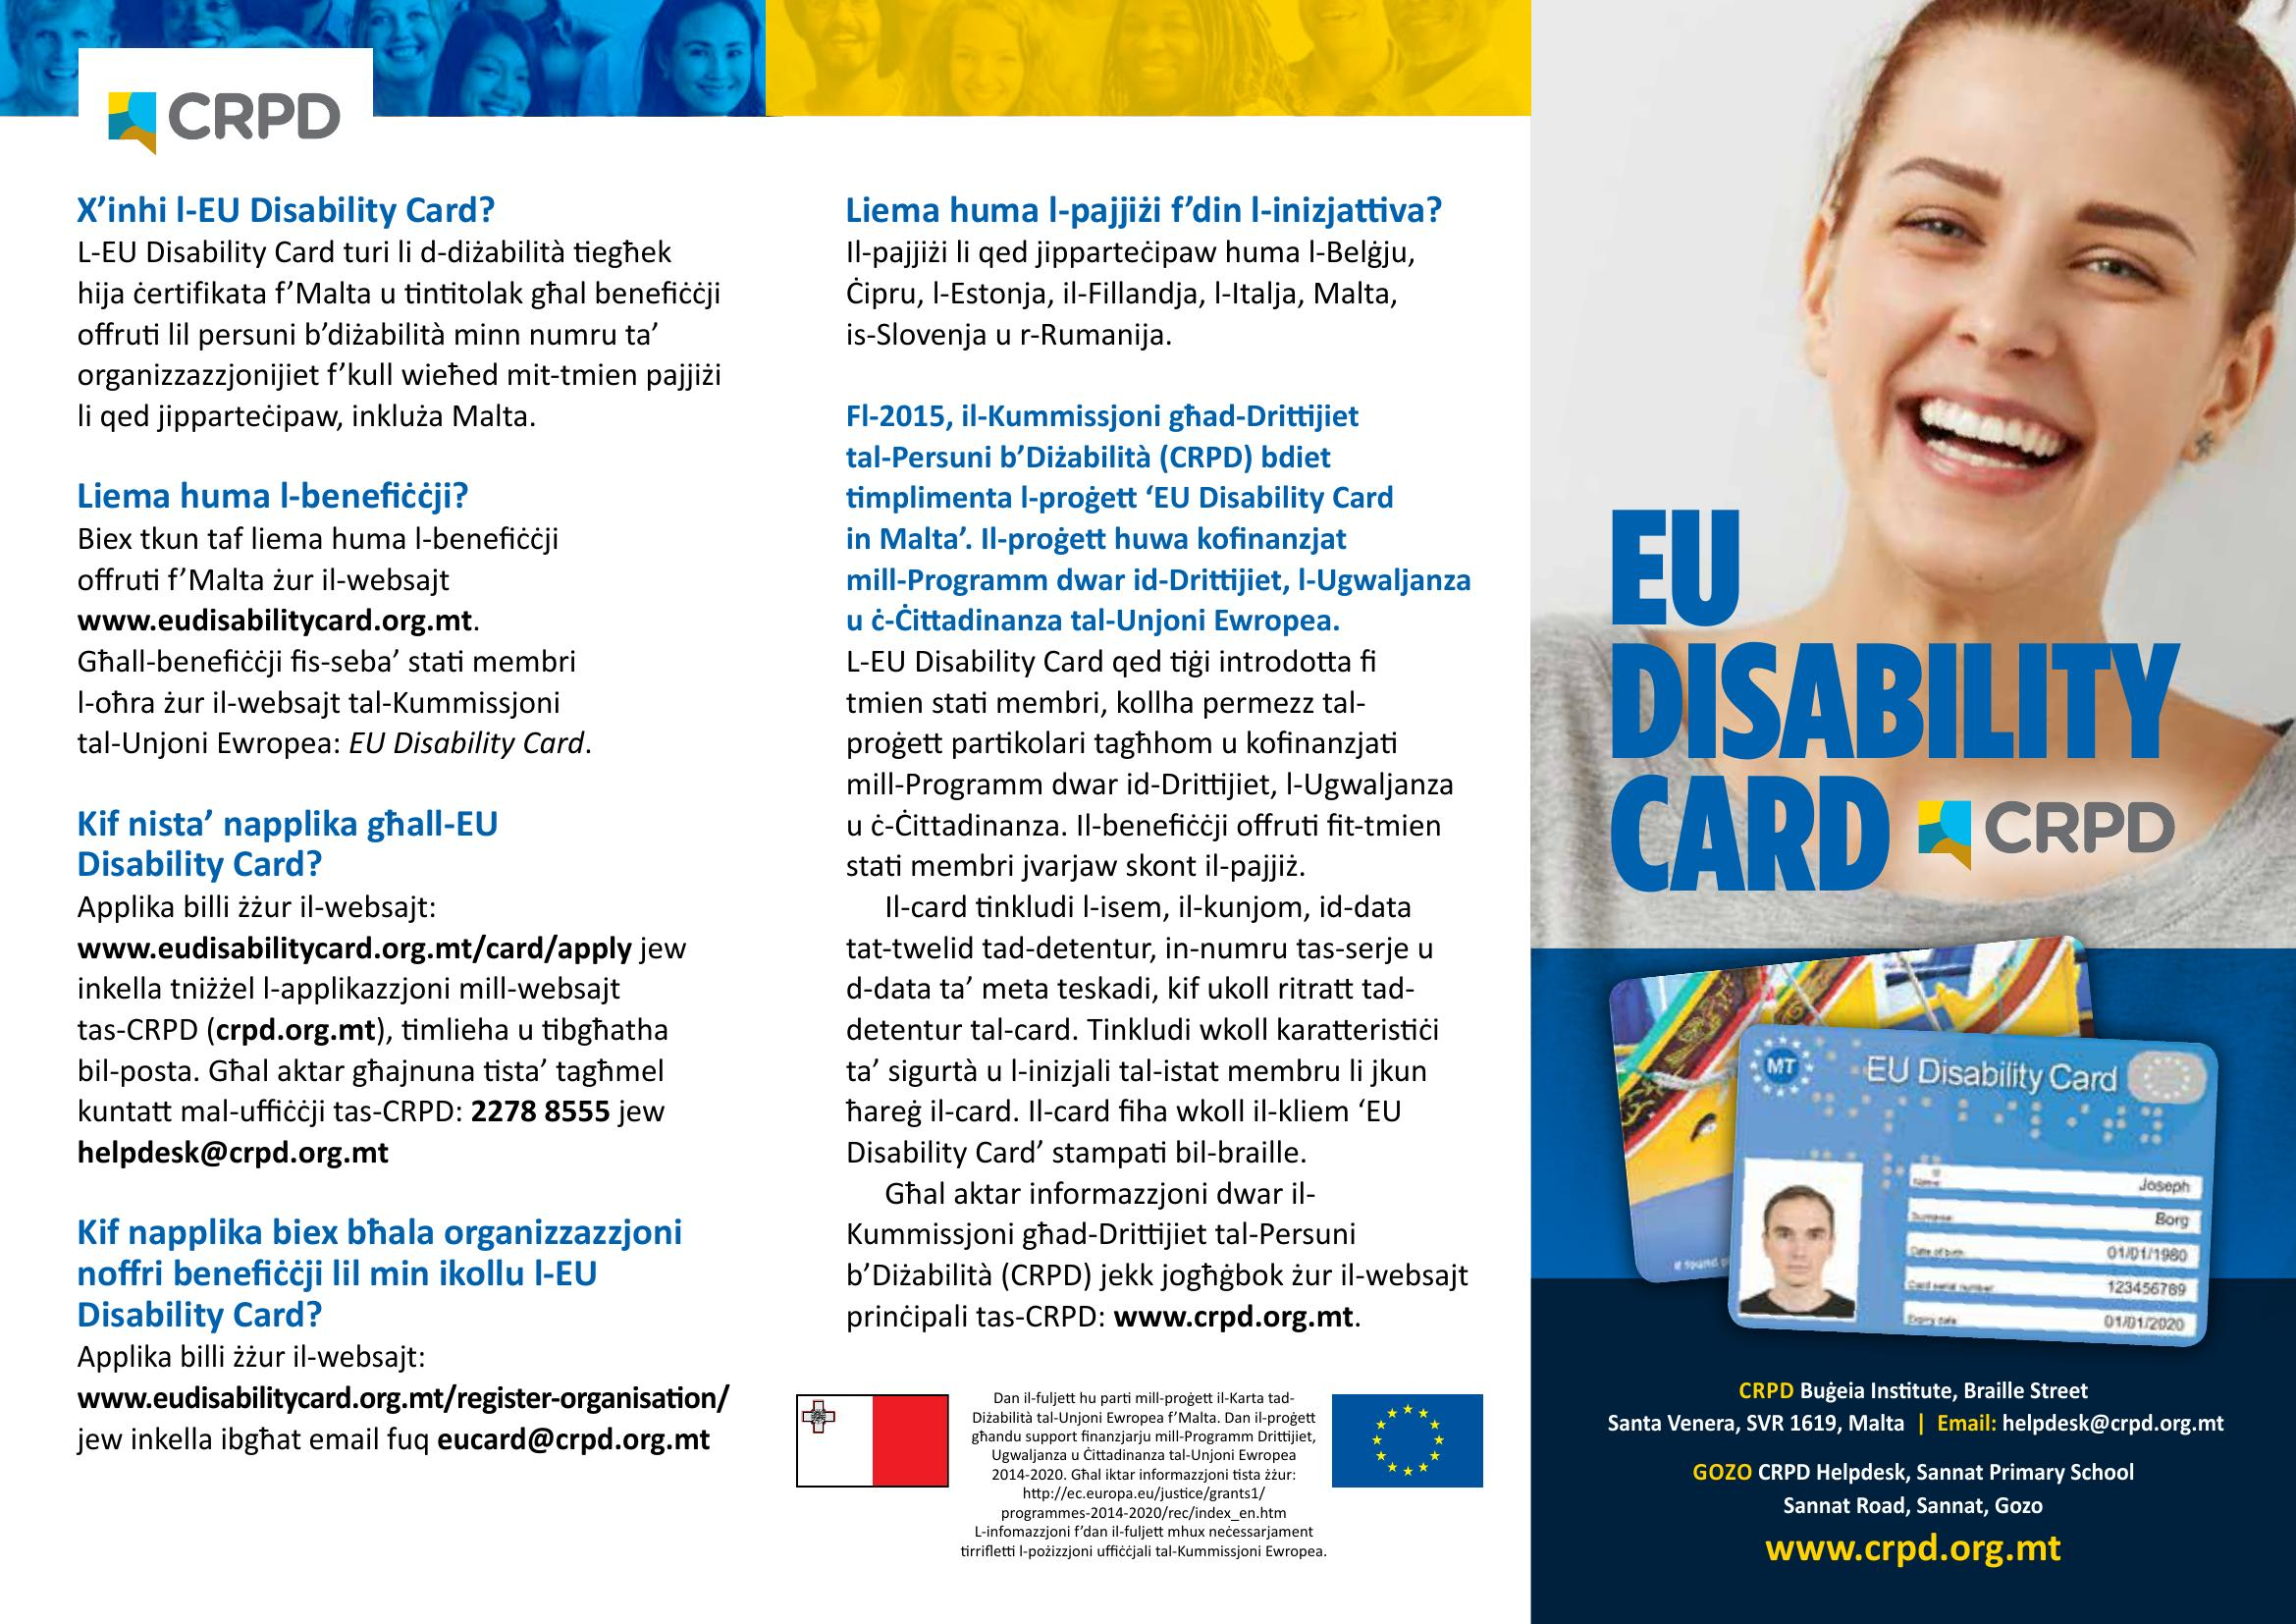text: (65, 178, 762, 1483), (831, 181, 1486, 1348), (1597, 492, 2203, 928)
whiteout: (1906, 772, 2187, 886)
